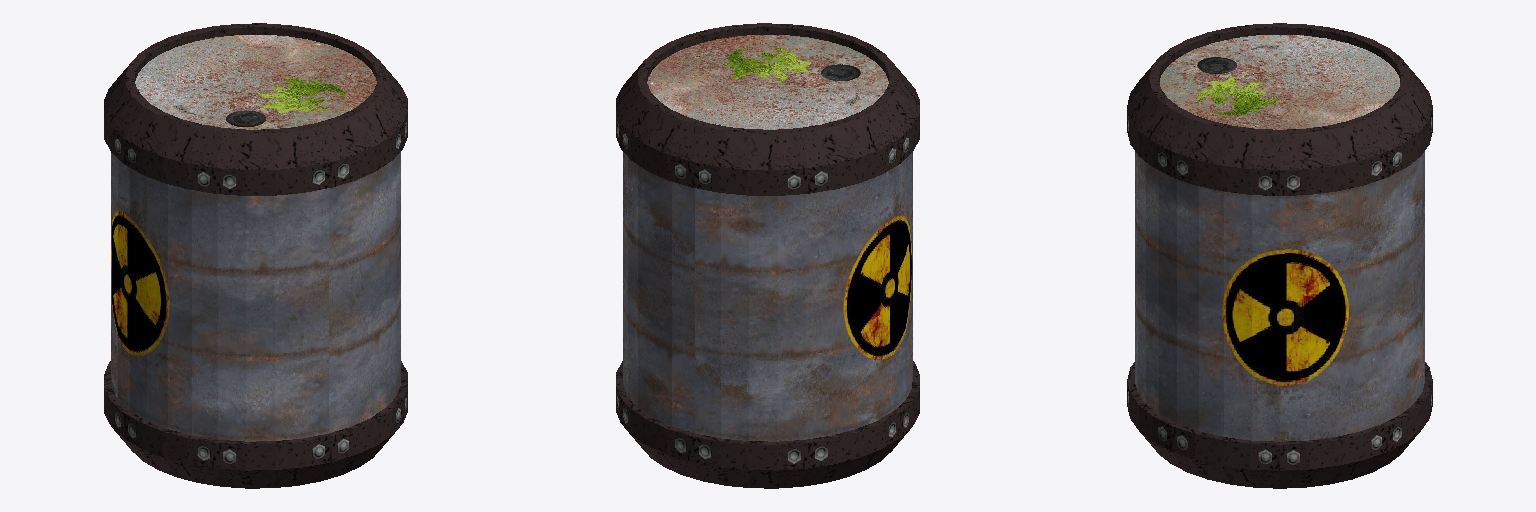
The picture shows the model from 3 angles: view 1: azimuth 30°, elevation 25°; view 2: azimuth 150°, elevation 25°; view 3: azimuth 270°, elevation 25°; orthographic projection.
Size of the model in its own units: 0.2172 by 0.2785 by 0.2172.
Materials: 1 (1 with a texture image).